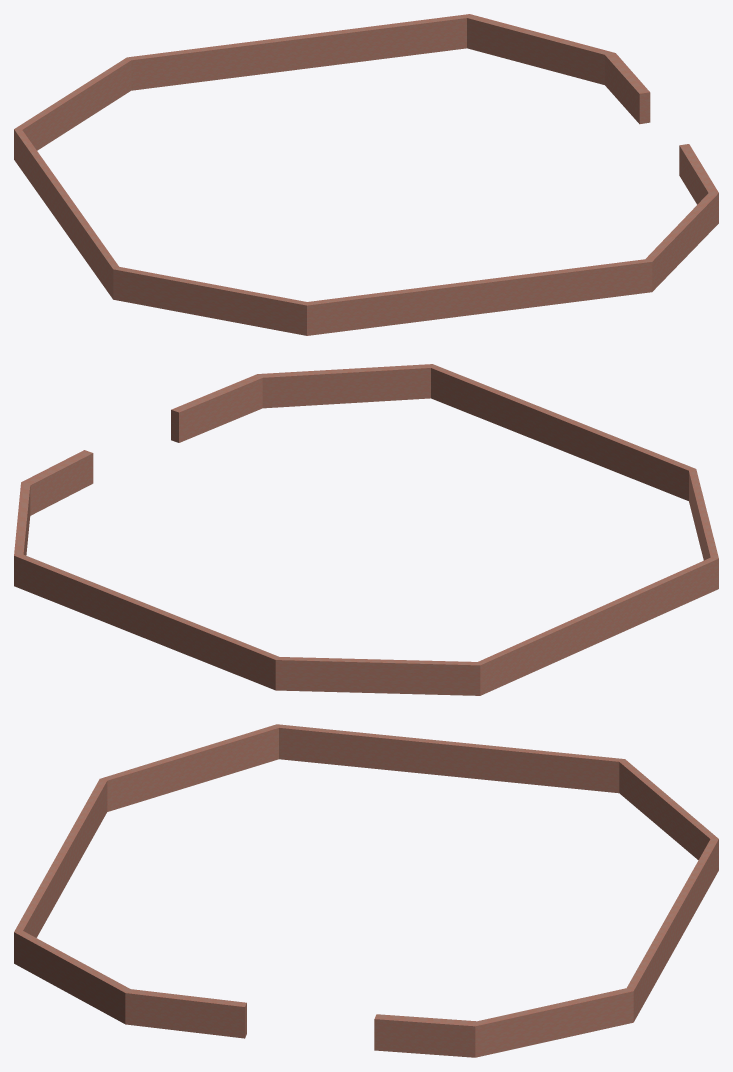
Rendered from kd_stage_136599_0_9_bounded.glb.
The picture shows the model from 3 angles, top to bottom: view 1: azimuth 30°, elevation 25°; view 2: azimuth 150°, elevation 25°; view 3: azimuth 270°, elevation 25°; orthographic projection. The views are drawn at different scales.
Parts seen in each view (by area): view 1: kd_stage_136599_0_9_bounded; view 2: kd_stage_136599_0_9_bounded; view 3: kd_stage_136599_0_9_bounded.
Boxes of the visible parts, x1=… form: kd_stage_136599_0_9_bounded: x1=14, y1=14, x2=718, y2=335; kd_stage_136599_0_9_bounded: x1=14, y1=364, x2=718, y2=695; kd_stage_136599_0_9_bounded: x1=14, y1=724, x2=718, y2=1057.
Bounding box in the file's own units: 71.65 × 3.48 × 70.66.
Materials: 1 (1 with a texture image).
